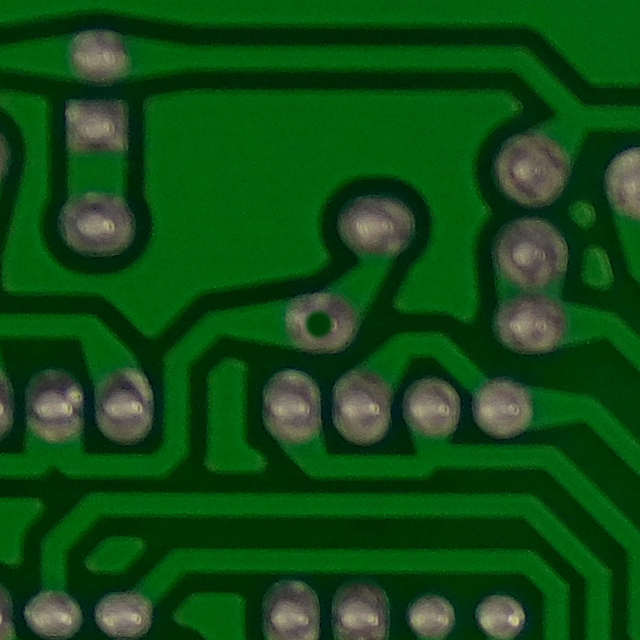missing_hole: (278, 283, 363, 357)
